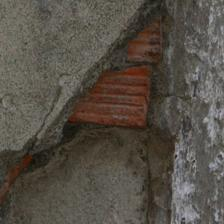Crack: (52, 0, 224, 97), (43, 73, 135, 224)
